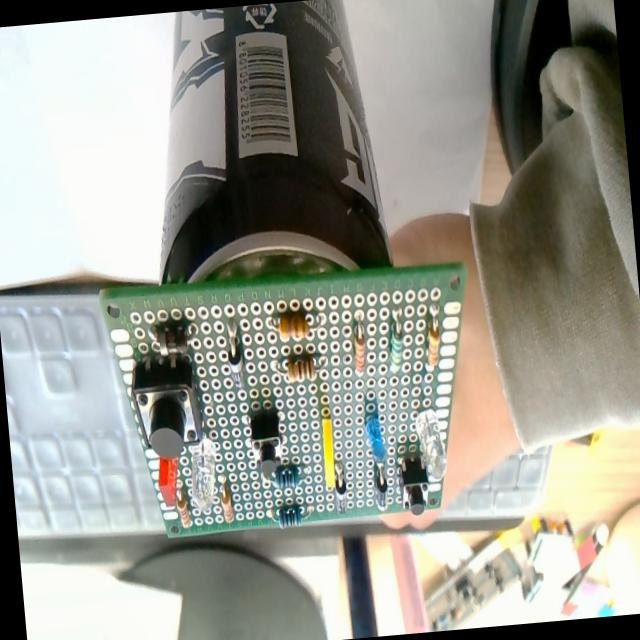diode: (147, 318, 199, 357), (223, 316, 246, 391), (318, 414, 338, 490)
led: (363, 408, 386, 467), (156, 454, 180, 509)
resistor: (414, 408, 449, 482), (272, 310, 311, 344), (384, 312, 406, 372), (422, 322, 442, 370), (284, 354, 316, 384), (351, 326, 368, 374), (272, 465, 300, 492), (277, 504, 303, 530), (176, 490, 192, 529), (219, 484, 234, 524)
switch: (127, 349, 205, 462), (187, 433, 220, 513), (248, 413, 285, 480), (396, 455, 432, 518), (372, 464, 390, 512), (332, 464, 348, 513)
